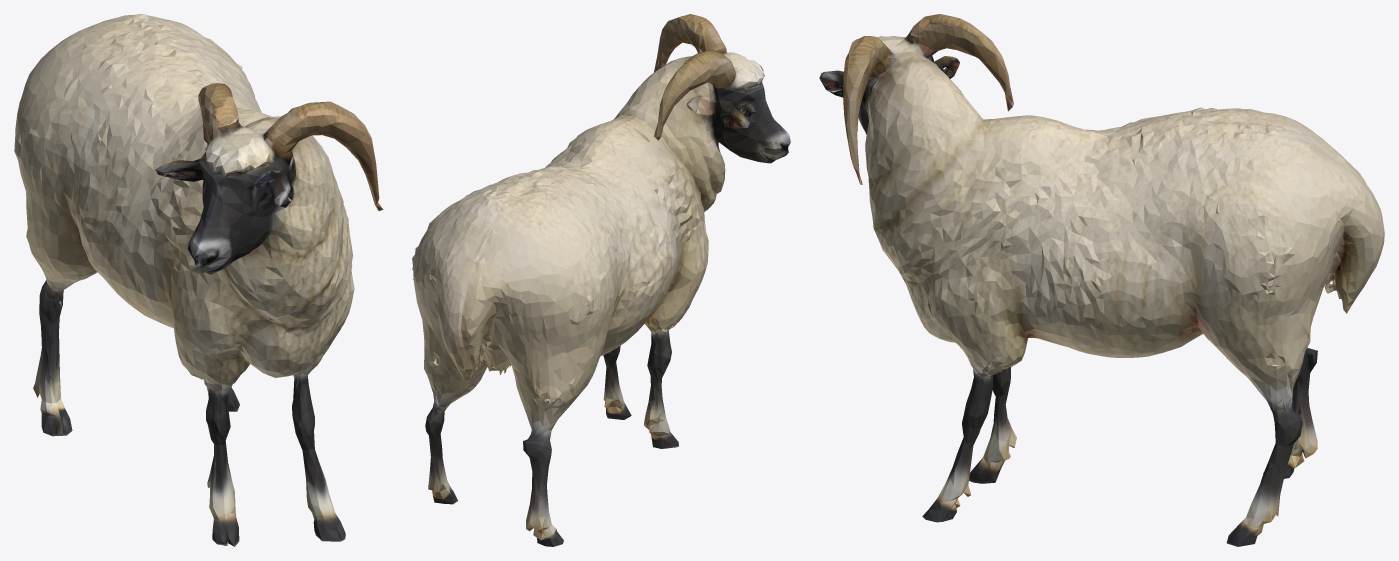
Rendered from Create_a_high_quality_0503072645_texture.fbx.
3 renders of one model, left to right at view 1: azimuth 30°, elevation 25°; view 2: azimuth 150°, elevation 25°; view 3: azimuth 270°, elevation 25°, orthographic. The views are drawn at different scales.
Visible parts, largest first — view 1: temp; view 2: temp; view 3: temp.
Part boxes in pixels (x1,y1,x2,y2): temp: (14, 14, 383, 546); temp: (412, 14, 790, 546); temp: (819, 14, 1384, 546).
Bounding box in the file's own units: 96.92 × 174 × 198.
1 material, 1 textured.
